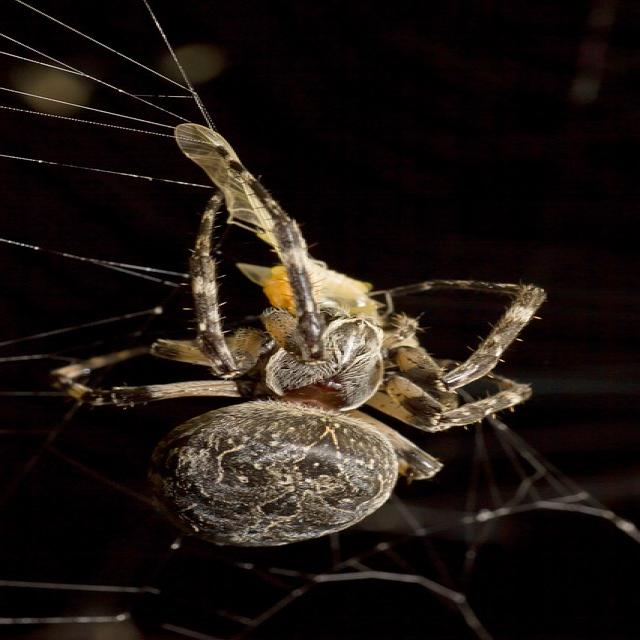spyder: (50, 123, 547, 549)
